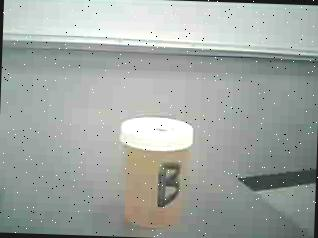Bottle B: (108, 111, 207, 238)
